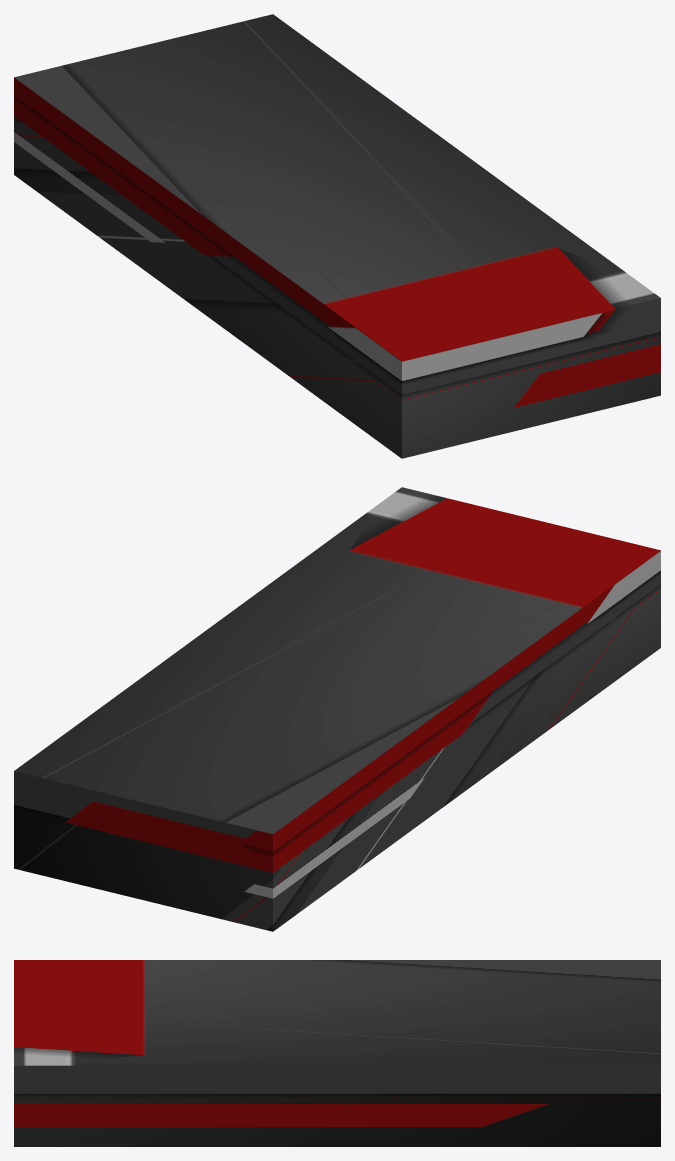
File: Ninja_Platform_Low_01.fbx
3 renders of one model, top to bottom at view 1: azimuth 30°, elevation 25°; view 2: azimuth 150°, elevation 25°; view 3: azimuth 270°, elevation 25°, orthographic. The views are drawn at different scales.
Parts seen in each view (by area): view 1: Platform_Low; view 2: Platform_Low; view 3: Platform_Low.
Boxes of the visible parts, x1=… form: Platform_Low: x1=14, y1=14, x2=660, y2=458; Platform_Low: x1=14, y1=487, x2=660, y2=931; Platform_Low: x1=14, y1=960, x2=660, y2=1146.
Size of the model in its own units: 186 by 66.86 by 482.
